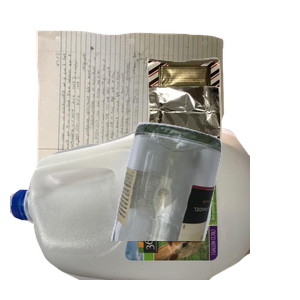glass: (109, 120, 300, 300)
paper: (32, 28, 249, 196)
plastic: (10, 120, 250, 300)
trash: (144, 55, 300, 197)
